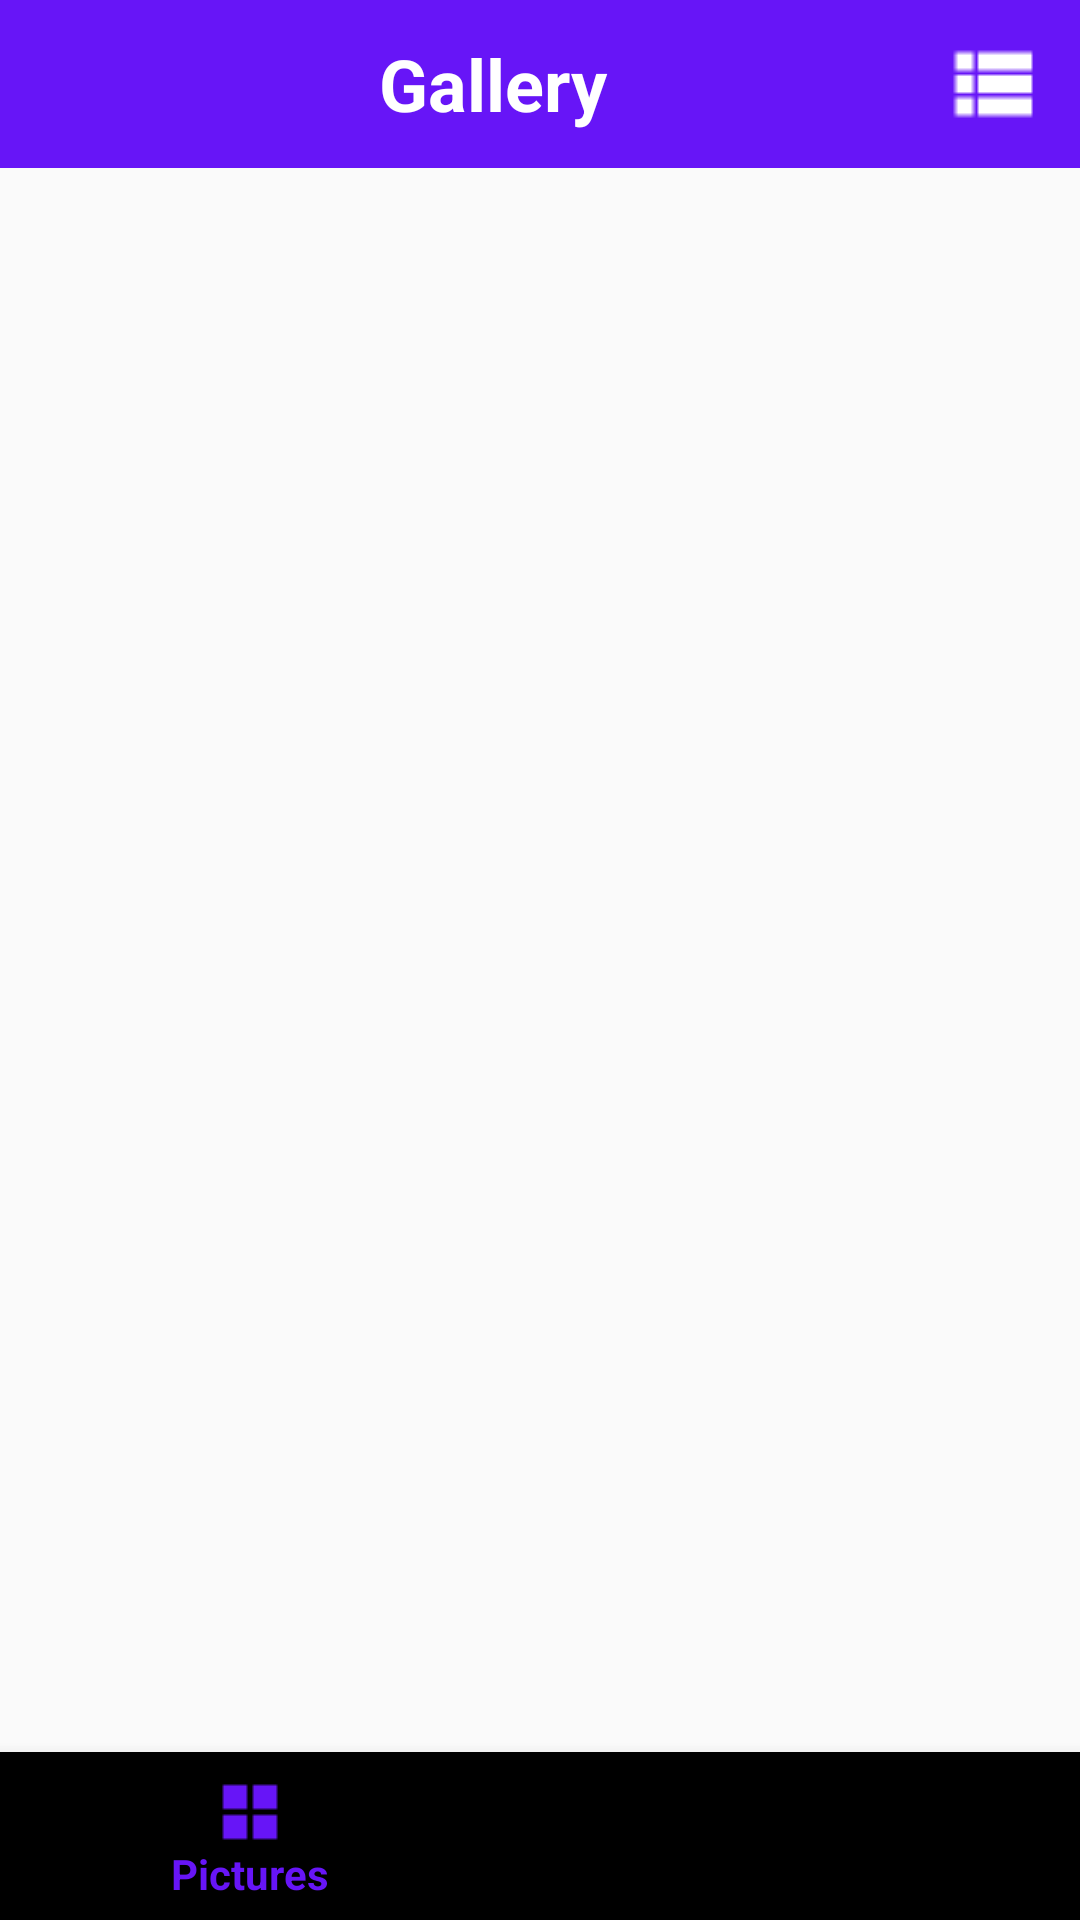

Icons on this 1080 x 1920 Android screen, each with its box as (x1, y1, x2, y2):
view list: (953, 50, 1033, 118)
